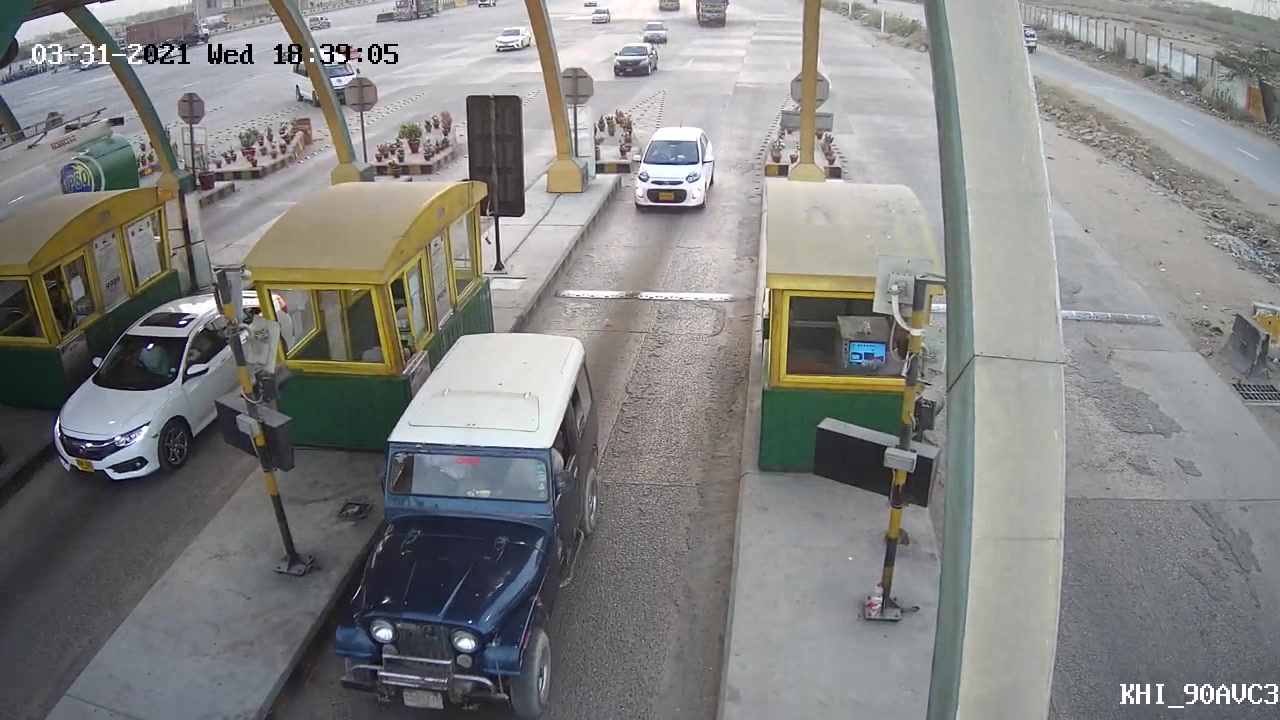F1: (325, 325, 602, 720), (620, 115, 723, 216)
